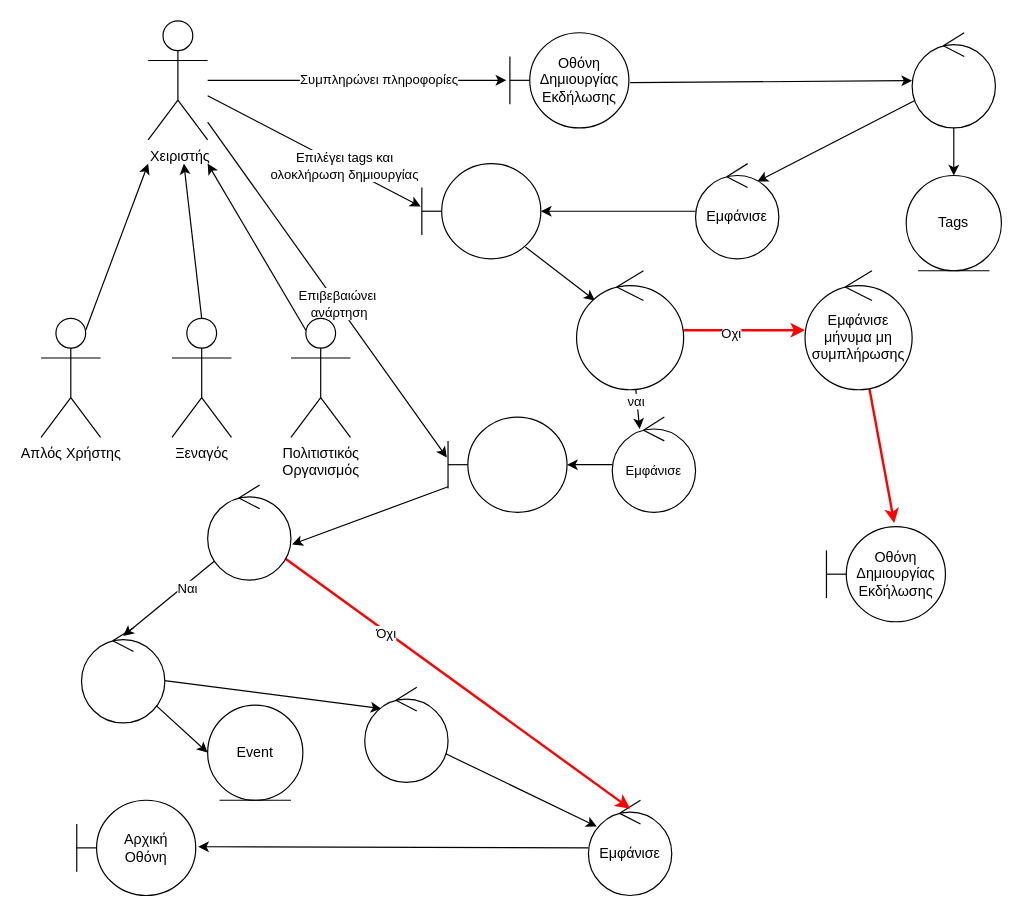
This 1022x916 diagram has some shape labels left out. Each missing label, with the box of its shape:
Αποθήκευσε Event: (364, 686, 448, 782)
Δημιούργησε: (80, 627, 165, 723)
Επιβεβαιωσε ο χειριστής;: (206, 484, 291, 580)
Οθόνη επιβεβαίωσης ανάρτησης: (447, 416, 567, 512)
Πεδίο επιλογής tags: (421, 162, 541, 259)
Φόρτωσε: (911, 32, 995, 128)
Όλα τα πεδία συμπληρωμένα;: (575, 270, 684, 390)
